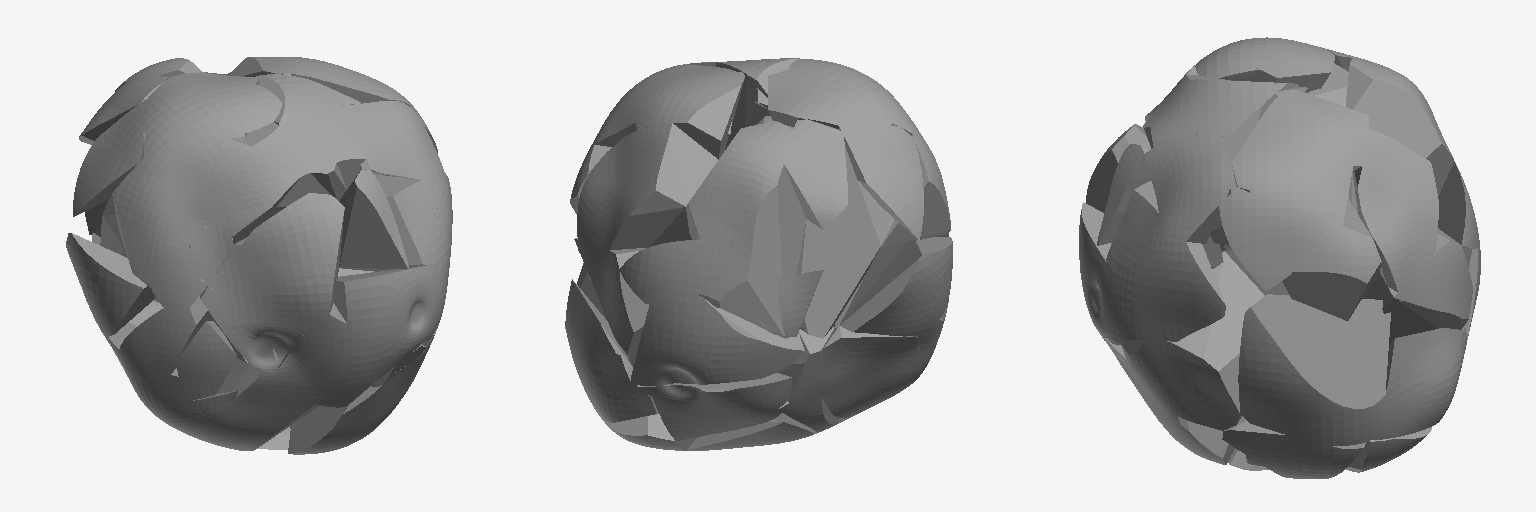
File: Asteroid_shattered.obj
3 views of the same model, side by side, from view 1: azimuth 30°, elevation 25°; view 2: azimuth 150°, elevation 25°; view 3: azimuth 270°, elevation 25° (orthographic).
Parts seen in each view (by area): view 1: 10464_Asteroid_v1_cell.059_10464_Asteroid_v1_cell.044, 10464_Asteroid_v1_cell.020_10464_Asteroid_v1_cell.014, 10464_Asteroid_v1_cell.063_10464_Asteroid_v1_cell.047, 10464_Asteroid_v1_cell.066_10464_Asteroid_v1_cell.049, 10464_Asteroid_v1_cell.052_10464_Asteroid_v1_cell.039, 10464_Asteroid_v1_cell.016_10464_Asteroid_v1_cell.011, 10464_Asteroid_v1_cell.080_10464_Asteroid_v1_cell.059, 10464_Asteroid_v1_cell.074_10464_Asteroid_v1_cell.054, 10464_Asteroid_v1_cell.051_10464_Asteroid_v1_cell.038, 10464_Asteroid_v1_cell.010_10464_Asteroid_v1_cell.008, 10464_Asteroid_v1_cell.058_10464_Asteroid_v1_cell.043, 10464_Asteroid_v1_cell.072_10464_Asteroid_v1_cell.052 (+19 smaller); view 2: 10464_Asteroid_v1_cell.034_10464_Asteroid_v1_cell.027, 10464_Asteroid_v1_cell.032_10464_Asteroid_v1_cell.025, 10464_Asteroid_v1_cell.005_10464_Asteroid_v1_cell.003, 10464_Asteroid_v1_cell.079_10464_Asteroid_v1_cell.058, 10464_Asteroid_v1_cell.041_10464_Asteroid_v1_cell.031, 10464_Asteroid_v1_cell.064_10464_Asteroid_v1_cell.048, 10464_Asteroid_v1_cell.016_10464_Asteroid_v1_cell.011, 10464_Asteroid_v1_cell.017_10464_Asteroid_v1_cell.012, 10464_Asteroid_v1_cell.024_10464_Asteroid_v1_cell.018, 10464_Asteroid_v1_cell_10464_Asteroid_v1_cell.081, 10464_Asteroid_v1_cell.025_10464_Asteroid_v1_cell.019, 10464_Asteroid_v1_cell.007_10464_Asteroid_v1_cell.005 (+14 smaller); view 3: 10464_Asteroid_v1_cell.030_10464_Asteroid_v1_cell.023, 10464_Asteroid_v1_cell.027_10464_Asteroid_v1_cell.021, 10464_Asteroid_v1_cell.067_10464_Asteroid_v1_cell.050, 10464_Asteroid_v1_cell.040_10464_Asteroid_v1_cell.030, 10464_Asteroid_v1_cell.032_10464_Asteroid_v1_cell.025, 10464_Asteroid_v1_cell.036_10464_Asteroid_v1_cell.028, 10464_Asteroid_v1_cell_10464_Asteroid_v1_cell.081, 10464_Asteroid_v1_cell.058_10464_Asteroid_v1_cell.043, 10464_Asteroid_v1_cell.034_10464_Asteroid_v1_cell.027, 10464_Asteroid_v1_cell.080_10464_Asteroid_v1_cell.059, 10464_Asteroid_v1_cell.015_10464_Asteroid_v1_cell.010, 10464_Asteroid_v1_cell.016_10464_Asteroid_v1_cell.011 (+15 smaller).
Boxes of the visible parts, x1=… form: 10464_Asteroid_v1_cell.059_10464_Asteroid_v1_cell.044: x1=234, y1=193, x2=344, y2=349; 10464_Asteroid_v1_cell.020_10464_Asteroid_v1_cell.014: x1=333, y1=266, x2=447, y2=387; 10464_Asteroid_v1_cell.063_10464_Asteroid_v1_cell.047: x1=112, y1=157, x2=210, y2=295; 10464_Asteroid_v1_cell.066_10464_Asteroid_v1_cell.049: x1=144, y1=134, x2=304, y2=260; 10464_Asteroid_v1_cell.052_10464_Asteroid_v1_cell.039: x1=200, y1=82, x2=376, y2=207; 10464_Asteroid_v1_cell.016_10464_Asteroid_v1_cell.011: x1=131, y1=72, x2=259, y2=138; 10464_Asteroid_v1_cell.080_10464_Asteroid_v1_cell.059: x1=255, y1=74, x2=363, y2=200; 10464_Asteroid_v1_cell.074_10464_Asteroid_v1_cell.054: x1=177, y1=349, x2=319, y2=450; 10464_Asteroid_v1_cell.051_10464_Asteroid_v1_cell.038: x1=269, y1=325, x2=381, y2=407; 10464_Asteroid_v1_cell.010_10464_Asteroid_v1_cell.008: x1=200, y1=265, x2=346, y2=375; 10464_Asteroid_v1_cell.058_10464_Asteroid_v1_cell.043: x1=342, y1=101, x2=444, y2=181; 10464_Asteroid_v1_cell.072_10464_Asteroid_v1_cell.052: x1=339, y1=169, x2=408, y2=268; 10464_Asteroid_v1_cell.034_10464_Asteroid_v1_cell.027: x1=686, y1=121, x2=805, y2=338; 10464_Asteroid_v1_cell.032_10464_Asteroid_v1_cell.025: x1=577, y1=123, x2=717, y2=267; 10464_Asteroid_v1_cell.005_10464_Asteroid_v1_cell.003: x1=631, y1=273, x2=804, y2=385; 10464_Asteroid_v1_cell.079_10464_Asteroid_v1_cell.058: x1=756, y1=116, x2=893, y2=338; 10464_Asteroid_v1_cell.041_10464_Asteroid_v1_cell.031: x1=839, y1=237, x2=952, y2=335; 10464_Asteroid_v1_cell.064_10464_Asteroid_v1_cell.048: x1=820, y1=326, x2=922, y2=417; 10464_Asteroid_v1_cell.016_10464_Asteroid_v1_cell.011: x1=768, y1=64, x2=896, y2=138; 10464_Asteroid_v1_cell.017_10464_Asteroid_v1_cell.012: x1=839, y1=124, x2=923, y2=240; 10464_Asteroid_v1_cell.024_10464_Asteroid_v1_cell.018: x1=784, y1=119, x2=847, y2=229; 10464_Asteroid_v1_cell_10464_Asteroid_v1_cell.081: x1=566, y1=279, x2=632, y2=422; 10464_Asteroid_v1_cell.025_10464_Asteroid_v1_cell.019: x1=635, y1=72, x2=744, y2=159; 10464_Asteroid_v1_cell.007_10464_Asteroid_v1_cell.005: x1=637, y1=373, x2=791, y2=417; 10464_Asteroid_v1_cell.030_10464_Asteroid_v1_cell.023: x1=1238, y1=294, x2=1390, y2=445; 10464_Asteroid_v1_cell.027_10464_Asteroid_v1_cell.021: x1=1122, y1=251, x2=1264, y2=430; 10464_Asteroid_v1_cell.067_10464_Asteroid_v1_cell.050: x1=1224, y1=191, x2=1381, y2=320; 10464_Asteroid_v1_cell.040_10464_Asteroid_v1_cell.030: x1=1232, y1=97, x2=1355, y2=228; 10464_Asteroid_v1_cell.032_10464_Asteroid_v1_cell.025: x1=1353, y1=128, x2=1438, y2=301; 10464_Asteroid_v1_cell.036_10464_Asteroid_v1_cell.028: x1=1120, y1=215, x2=1225, y2=341; 10464_Asteroid_v1_cell_10464_Asteroid_v1_cell.081: x1=1371, y1=328, x2=1466, y2=439; 10464_Asteroid_v1_cell.058_10464_Asteroid_v1_cell.043: x1=1145, y1=131, x2=1233, y2=243; 10464_Asteroid_v1_cell.034_10464_Asteroid_v1_cell.027: x1=1346, y1=58, x2=1454, y2=195; 10464_Asteroid_v1_cell.080_10464_Asteroid_v1_cell.059: x1=1143, y1=79, x2=1298, y2=244; 10464_Asteroid_v1_cell.015_10464_Asteroid_v1_cell.010: x1=1366, y1=228, x2=1472, y2=344; 10464_Asteroid_v1_cell.016_10464_Asteroid_v1_cell.011: x1=1195, y1=37, x2=1334, y2=92.
Bounding box in the file's own units: 1360 × 1383 × 1377.